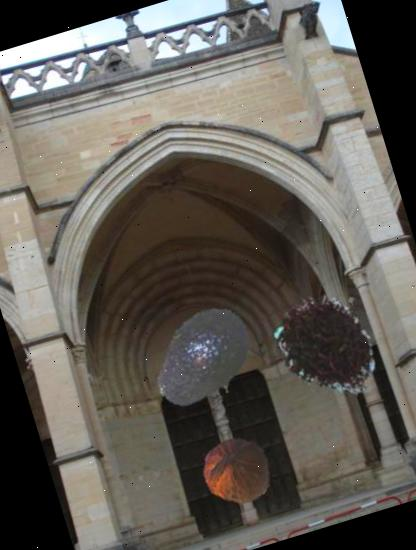Avocado: (134, 290, 274, 429)
Rambutan: (259, 274, 403, 419)
Walnut: (195, 427, 282, 514)
